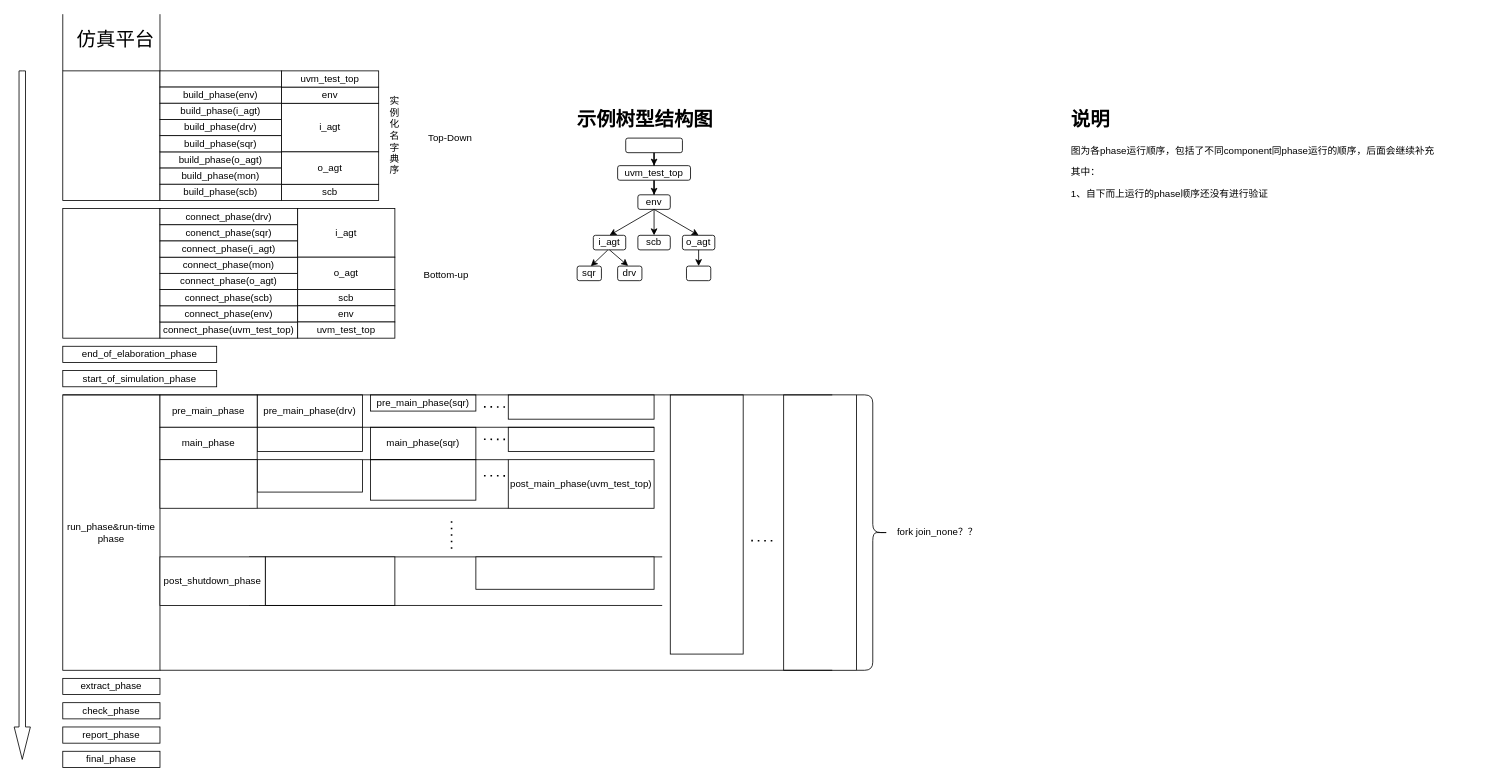
This 1511x782 diagram has some shape labels left out. Each missing label, with the centre of its shape:
build_phase: pixel 111 135
build_phase(uvm_test_top): pixel 220 78
connect_phase: pixel 111 273
main_phase(drv): pixel 309 439
main_phase(uvm_test_top): pixel 580 439
mon: pixel 698 273
post_main_phase: pixel 208 483
post_main_phase(drv): pixel 309 475
post_main_phase(sqr): pixel 423 479
post_shutdown_phase(drv): pixel 329 580
post_shutdown_phase(uvm_test_top): pixel 564 572
pre_main_phase(uvm_test_top): pixel 580 406
run_phase(drv): pixel 706 524
run_phase(scb): pixel 820 532
uvm_top: pixel 653 145
